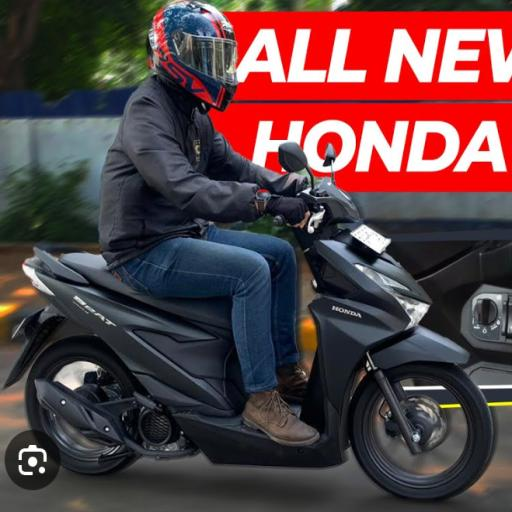Helmet: (146, 0, 238, 112)
Motor: (3, 178, 493, 500)
